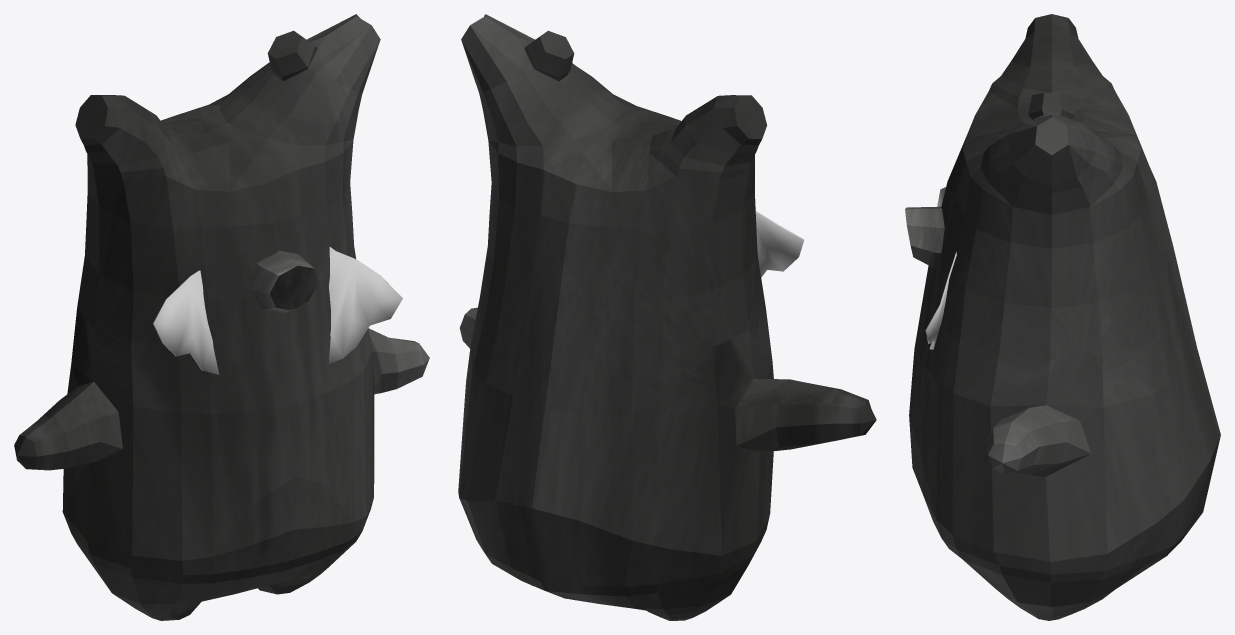
The model's file is frame_0018.obj.
The picture shows the model from 3 angles, left to right: view 1: azimuth 30°, elevation 25°; view 2: azimuth 150°, elevation 25°; view 3: azimuth 270°, elevation 25°; orthographic projection. The views are drawn at different scales.
Visible parts, largest first — view 1: korok, leaf, nose; view 2: korok, leaf; view 3: korok, nose, leaf.
Part boxes in pixels (bbox=[...]): korok: bbox=[14, 14, 429, 620]; leaf: bbox=[153, 247, 402, 374]; nose: bbox=[249, 250, 318, 313]; korok: bbox=[458, 14, 876, 620]; leaf: bbox=[755, 211, 804, 277]; korok: bbox=[909, 14, 1220, 620]; nose: bbox=[905, 206, 944, 267]; leaf: bbox=[925, 187, 956, 349].
Size of the model in its own units: 1.72 by 2.22 by 1.18.
